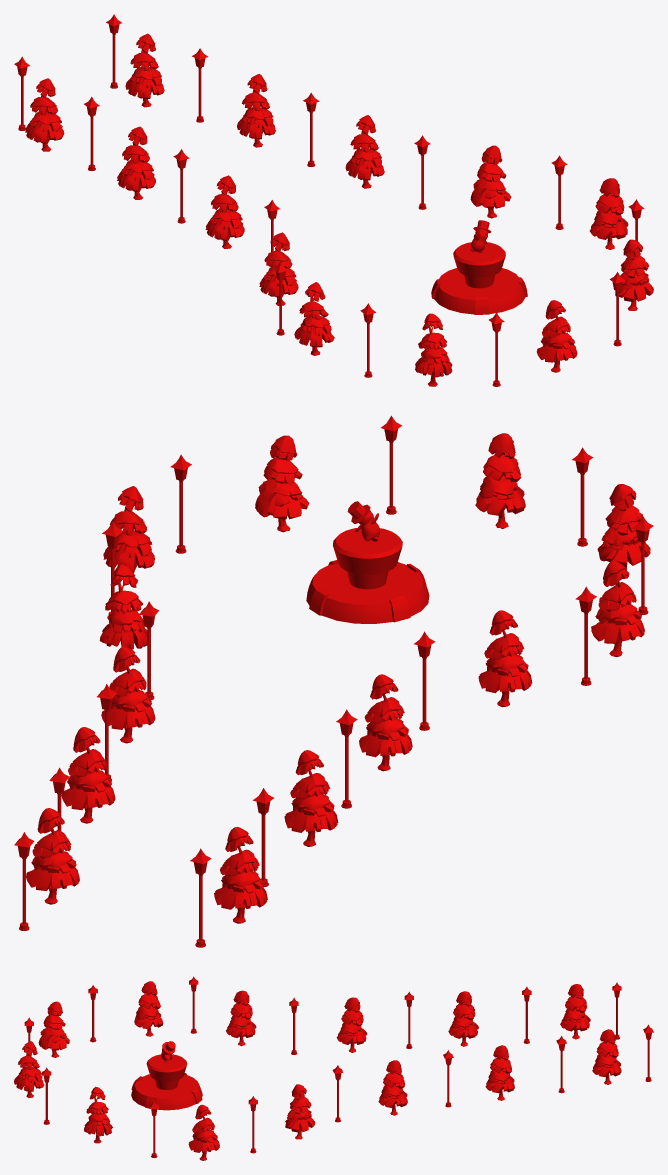
The model's file is Extras_Walkway_01.glb.
3 views of the same model, one above another, from view 1: azimuth 30°, elevation 25°; view 2: azimuth 150°, elevation 25°; view 3: azimuth 270°, elevation 25° (orthographic). The views are drawn at different scales.
Parts seen in each view (by area): view 1: pasted__pasted__pasted__pasted__Object_Fountain2, Tree_636, Tree_637, Tree_639, Tree_633, Tree_634, Tree_632, Tree_634_node, Tree_632_node, Tree_633_node, Tree_641, Tree_640 (+2 smaller); view 2: pasted__pasted__pasted__pasted__Object_Fountain2, Tree_638, Tree_639, Tree_641, Tree_632_node, Tree_633_node, Tree_634, Tree_635, Tree_632, Tree_633, Tree_634_node, Tree_640 (+2 smaller); view 3: pasted__pasted__pasted__pasted__Object_Fountain2, Tree_640, Tree_635, Tree_634, Tree_632, Tree_633, Tree_633_node, Tree_632_node, Tree_634_node, Tree_637, Tree_636, Tree_641 (+2 smaller).
Part boxes in pixels (bbox=[...]): pasted__pasted__pasted__pasted__Object_Fountain2: bbox=[431, 242, 527, 314]; Tree_636: bbox=[470, 145, 511, 218]; Tree_637: bbox=[589, 178, 628, 249]; Tree_639: bbox=[536, 300, 577, 372]; Tree_633: bbox=[117, 126, 155, 199]; Tree_634: bbox=[205, 175, 244, 248]; Tree_632: bbox=[25, 78, 64, 151]; Tree_634_node: bbox=[345, 115, 384, 188]; Tree_632_node: bbox=[125, 33, 164, 107]; Tree_633_node: bbox=[237, 74, 275, 147]; Tree_641: bbox=[294, 282, 334, 355]; Tree_640: bbox=[415, 313, 452, 386]; pasted__pasted__pasted__pasted__Object_Fountain2: bbox=[306, 528, 429, 623]; Tree_638: bbox=[255, 435, 309, 532]; Tree_639: bbox=[475, 433, 525, 528]; Tree_641: bbox=[591, 560, 644, 656]; Tree_632_node: bbox=[26, 808, 79, 904]; Tree_633_node: bbox=[61, 727, 115, 823]; Tree_634: bbox=[359, 674, 412, 771]; Tree_635: bbox=[478, 610, 532, 707]; Tree_632: bbox=[214, 827, 267, 923]; Tree_633: bbox=[284, 750, 338, 846]; Tree_634_node: bbox=[101, 646, 155, 743]; Tree_640: bbox=[597, 484, 650, 578]; pasted__pasted__pasted__pasted__Object_Fountain2: bbox=[131, 1054, 202, 1110]; Tree_640: bbox=[38, 1001, 69, 1057]; Tree_635: bbox=[226, 990, 256, 1046]; Tree_634: bbox=[336, 997, 367, 1052]; Tree_632: bbox=[560, 984, 590, 1039]; Tree_633: bbox=[448, 991, 478, 1046]; Tree_633_node: bbox=[485, 1045, 514, 1100]; Tree_632_node: bbox=[592, 1029, 621, 1084]; Tree_634_node: bbox=[378, 1060, 407, 1115]; Tree_637: bbox=[188, 1104, 219, 1160]; Tree_636: bbox=[285, 1084, 315, 1139]; Tree_641: bbox=[134, 981, 163, 1036].
Size of the model in its own units: 18.29 by 3.83 by 35.84.
